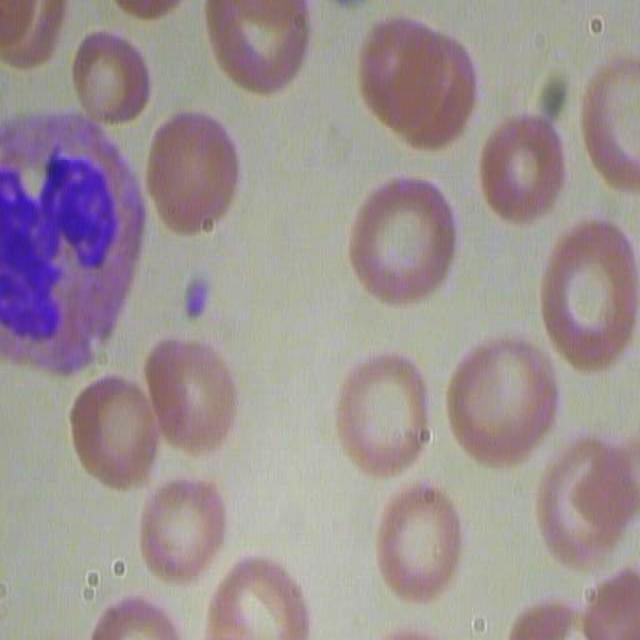RBC: (342, 165, 465, 313), (357, 10, 480, 151), (439, 334, 559, 469), (535, 215, 638, 372), (327, 340, 435, 476), (530, 432, 636, 568), (142, 106, 244, 238), (144, 329, 241, 455), (372, 477, 466, 602), (67, 370, 157, 493), (136, 471, 228, 586), (202, 1, 308, 97), (478, 111, 566, 222), (203, 551, 314, 638), (573, 54, 640, 194), (68, 27, 153, 134), (497, 576, 606, 640), (96, 2, 205, 55), (0, 0, 65, 73), (86, 595, 186, 640), (581, 566, 640, 640)
WBC: (0, 110, 143, 387)
platelets: (180, 268, 214, 325)
